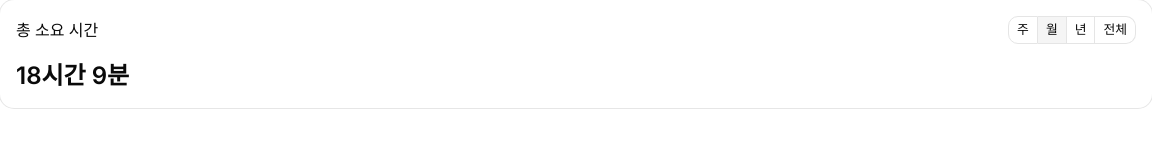
it: TimeSummary › 주 탭 선택 시 이번 주 합계로 바뀐다
The width and height of the screenshot is (1152, 160).
Click the radio button labelled "주": (1023, 30) [1008, 16, 1038, 44]
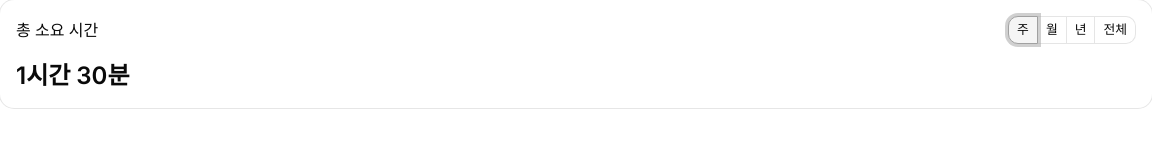
Now the text "1시간 30분" is shown, box [16, 61, 130, 90]
